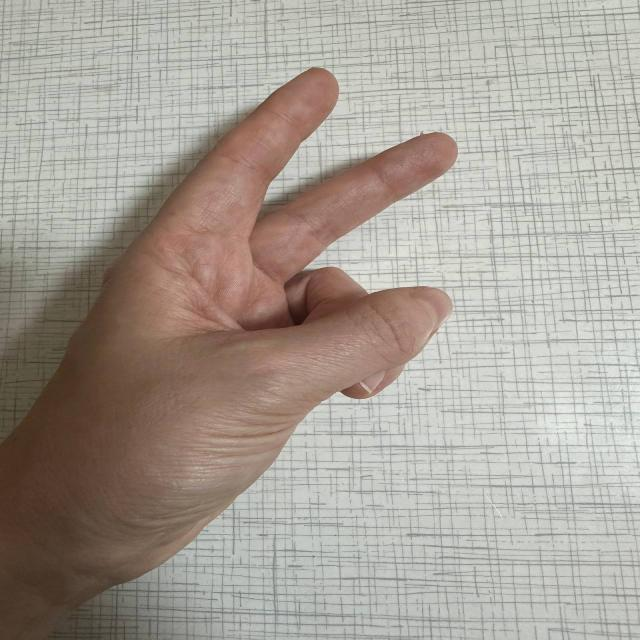k: (144, 64, 449, 508)
